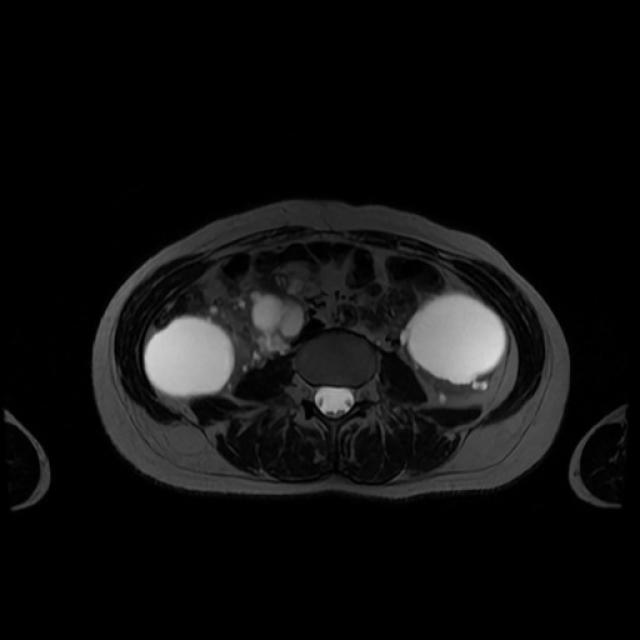sag: (146, 294, 307, 398)
sol: (407, 293, 506, 399)
